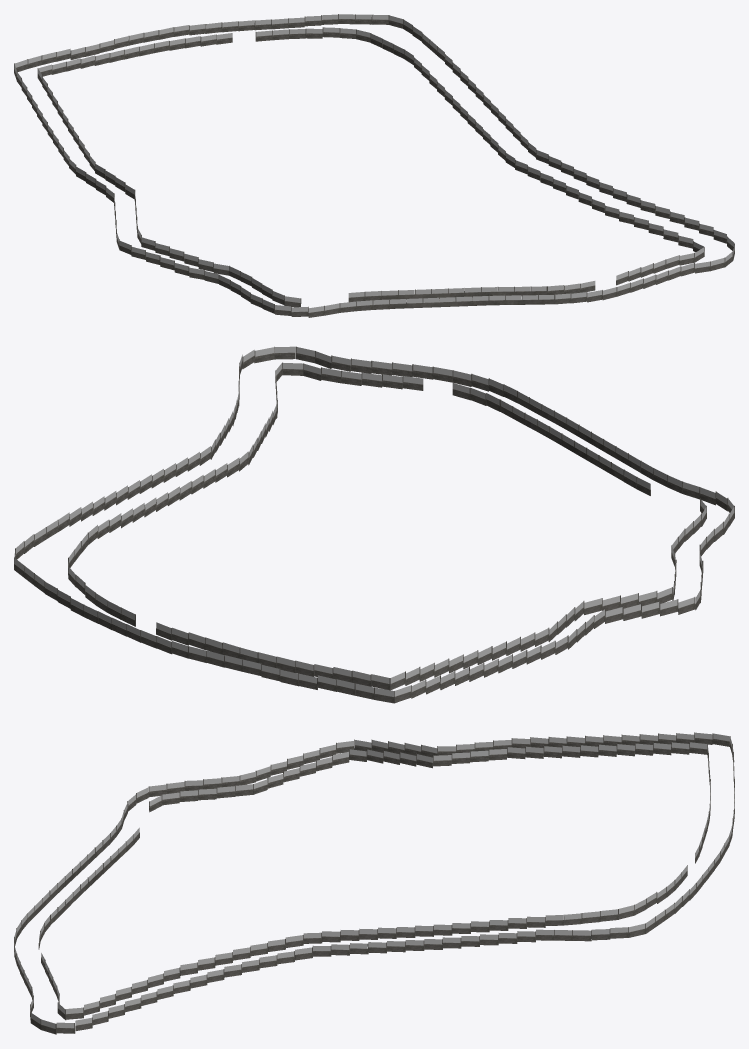
File: MURO_CONTENCION.fbx
3 renders of one model, top to bottom at view 1: azimuth 30°, elevation 25°; view 2: azimuth 150°, elevation 25°; view 3: azimuth 270°, elevation 25°, orthographic. The views are drawn at different scales.
Visible parts, largest first — view 1: MURO_CONTENCION.001, MURO_CONTENCION.028; view 2: MURO_CONTENCION.028, MURO_CONTENCION.001; view 3: MURO_CONTENCION.001, MURO_CONTENCION.028.
Part boxes in pixels (x1=…): MURO_CONTENCION.001: x1=390, y1=294, x2=555, y2=308; MURO_CONTENCION.028: x1=382, y1=286, x2=547, y2=299; MURO_CONTENCION.028: x1=500, y1=399, x2=623, y2=481; MURO_CONTENCION.001: x1=517, y1=391, x2=640, y2=472; MURO_CONTENCION.001: x1=27, y1=841, x2=102, y2=923; MURO_CONTENCION.028: x1=50, y1=842, x2=125, y2=924.
Size of the model in its own units: 38272 by 5162 by 44953.
